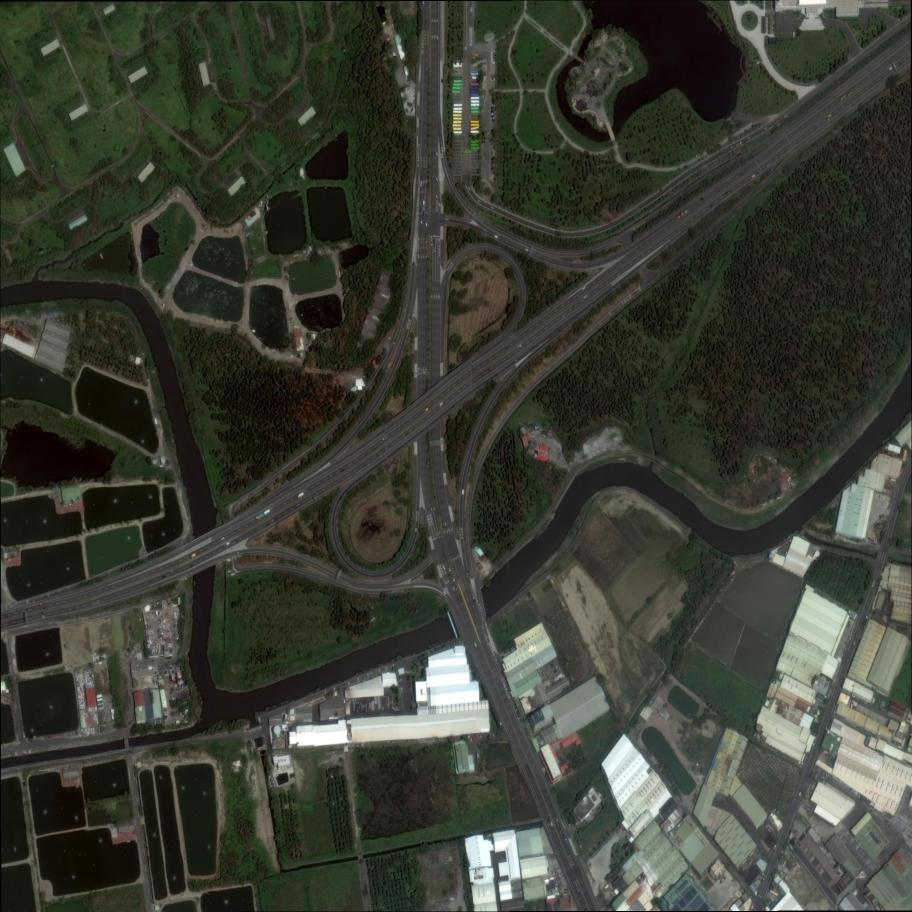large-vehicle: (470, 90, 479, 93), (471, 100, 480, 103), (470, 140, 479, 143), (453, 77, 462, 80), (453, 130, 461, 133), (471, 94, 479, 97), (471, 86, 479, 89), (471, 83, 479, 86), (471, 124, 479, 127), (471, 127, 479, 130), (471, 130, 479, 133), (453, 124, 461, 127), (453, 121, 461, 124), (454, 104, 462, 107), (453, 86, 461, 89), (454, 80, 462, 83), (463, 151, 471, 154), (471, 144, 479, 147), (471, 111, 480, 113), (453, 128, 462, 130), (453, 118, 462, 120), (453, 111, 462, 113), (471, 121, 479, 123), (471, 107, 479, 109), (471, 104, 479, 106), (471, 97, 479, 99), (471, 73, 479, 75), (453, 114, 461, 116), (454, 108, 462, 110), (453, 91, 461, 93), (453, 83, 461, 85), (470, 147, 478, 149)
storage-tank: (273, 726, 281, 737)
